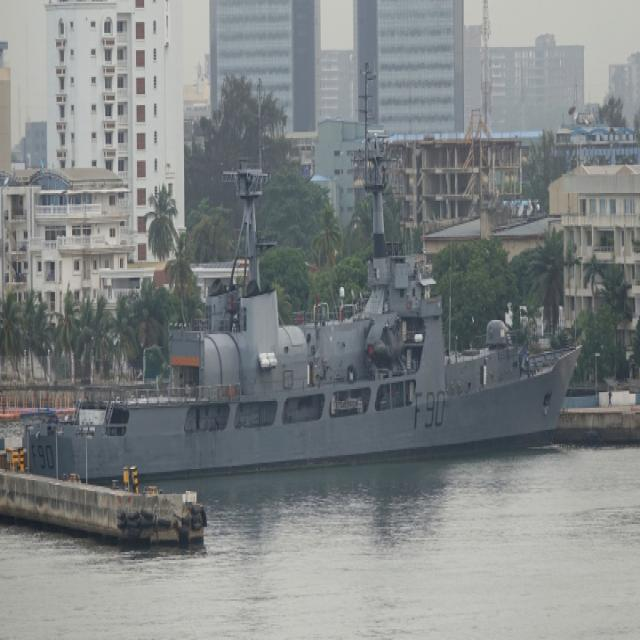Fragata: (21, 119, 587, 491)
